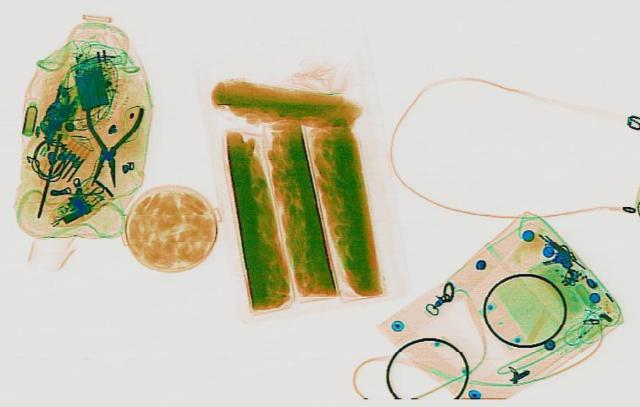Pliers: (70, 103, 144, 187)
